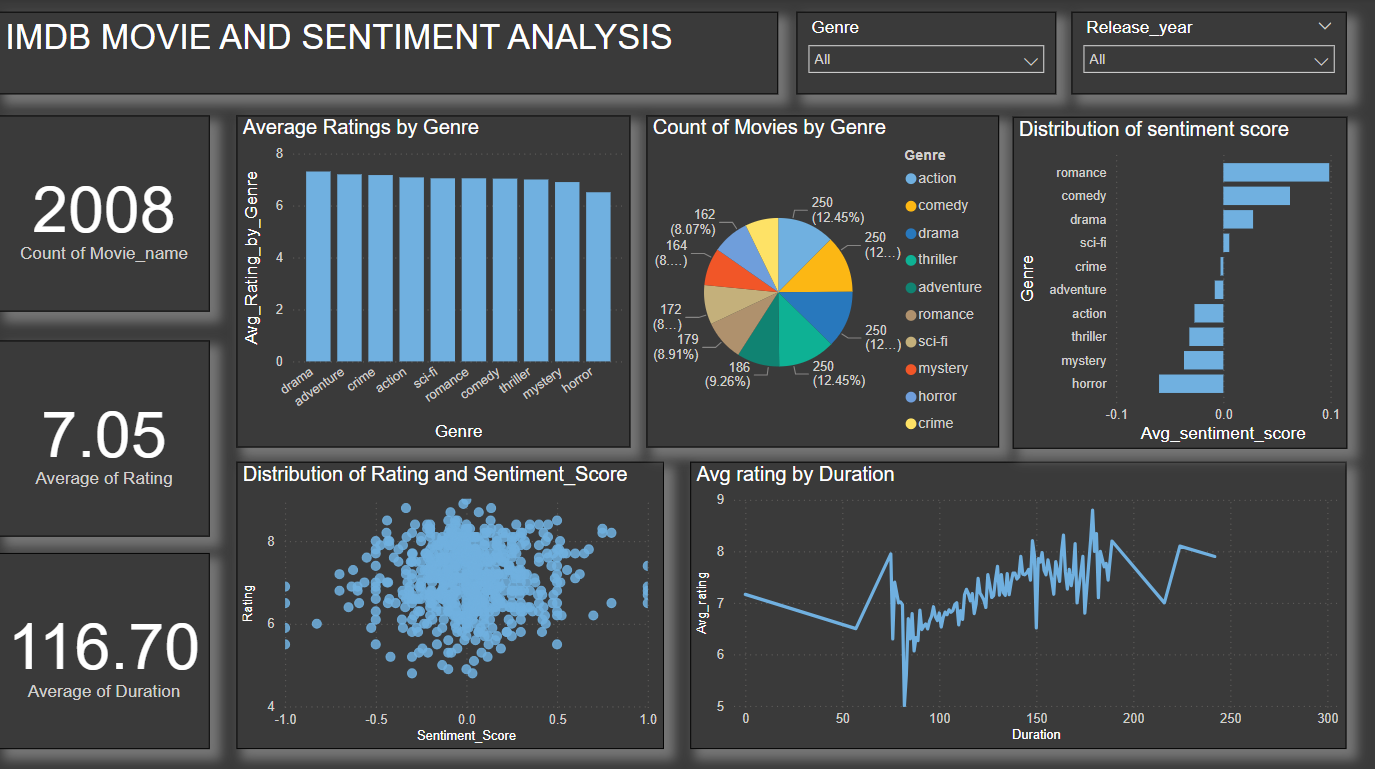

The dashboard page shown, as its layout file describes it:
{"tool":"powerbi","page":{"name":"Page 1","canvas":[1280,720],"ordinal":0},"visuals":[{"type":"columnChart","fields":{"Category":["Cleaned_Updated_Movies.Genre"],"Y":["Cleaned_Updated_Movies.Total_review_by_genre"]},"box":[220.9,109.8,366.4,308.7],"z":0},{"type":"scatterChart","title":"Rating VS Sentiment_Score","fields":{"X":["Cleaned_Updated_Movies.Sentiment_Score"],"Y":["Cleaned_Updated_Movies.Rating"]},"box":[220.9,430.9,397.9,267.6],"z":1000},{"type":"textbox","box":[0,12.3,724.5,76.8],"z":2000},{"type":"card","fields":{"Values":["Avg(Cleaned_Updated_Movies.Rating)"]},"box":[0,318.4,196.2,182.5],"z":3000},{"type":"card","fields":{"Values":["Avg(Cleaned_Updated_Movies.Duration)"]},"box":[0,516,196.2,182.5],"z":4000},{"type":"card","fields":{"Values":["CountNonNull(Cleaned_Updated_Movies.Movie_name)"]},"box":[0,109.8,196.2,182.5],"z":5000},{"type":"pieChart","fields":{"Category":["Cleaned_Updated_Movies.Genre"],"Y":["CountNonNull(Cleaned_Updated_Movies.Movie_name)"]},"box":[602.4,109.8,328,308.7],"z":6000},{"type":"lineChart","fields":{"Category":["Cleaned_Updated_Movies.Duration"],"Y":["Cleaned_Updated_Movies.Avg_rating"]},"box":[643.3,431.3,610,267.1],"z":7000},{"type":"slicer","fields":{"Values":["Cleaned_Updated_Movies.Genre"]},"box":[742.4,12.3,241.5,76.8],"z":8000},{"type":"clusteredBarChart","fields":{"Category":["Cleaned_Updated_Movies.Genre"],"Y":["Cleaned_Updated_Movies.Avg_sentiment_score"]},"box":[943,110,311,309],"z":9000},{"type":"slicer","fields":{"Values":["Cleaned_Updated_Movies.Release_year"]},"box":[997.7,12.5,255.7,76.9],"z":10000}]}

Visuals, with their boxes in screenshot pixels (x1, y1, x2, y2), scaled from the page's 1280x720 canvas onto the 1375x769 screenshot:
columnChart - Cleaned_Updated_Movies.Genre x Cleaned_Updated_Movies.Total_review_by_genre: [left=237, top=117, right=631, bottom=447]
"Rating VS Sentiment_Score" scatterChart: [left=237, top=460, right=665, bottom=746]
textbox: [left=0, top=13, right=778, bottom=95]
card - Avg(Cleaned_Updated_Movies.Rating): [left=0, top=340, right=211, bottom=535]
card - Avg(Cleaned_Updated_Movies.Duration): [left=0, top=551, right=211, bottom=746]
card - CountNonNull(Cleaned_Updated_Movies.Movie_name): [left=0, top=117, right=211, bottom=312]
pieChart - Cleaned_Updated_Movies.Genre x CountNonNull(Cleaned_Updated_Movies.Movie_name): [left=647, top=117, right=999, bottom=447]
lineChart - Cleaned_Updated_Movies.Duration x Cleaned_Updated_Movies.Avg_rating: [left=691, top=461, right=1346, bottom=746]
slicer - Cleaned_Updated_Movies.Genre: [left=798, top=13, right=1057, bottom=95]
clusteredBarChart - Cleaned_Updated_Movies.Genre x Cleaned_Updated_Movies.Avg_sentiment_score: [left=1013, top=117, right=1347, bottom=448]
slicer - Cleaned_Updated_Movies.Release_year: [left=1072, top=13, right=1346, bottom=95]
